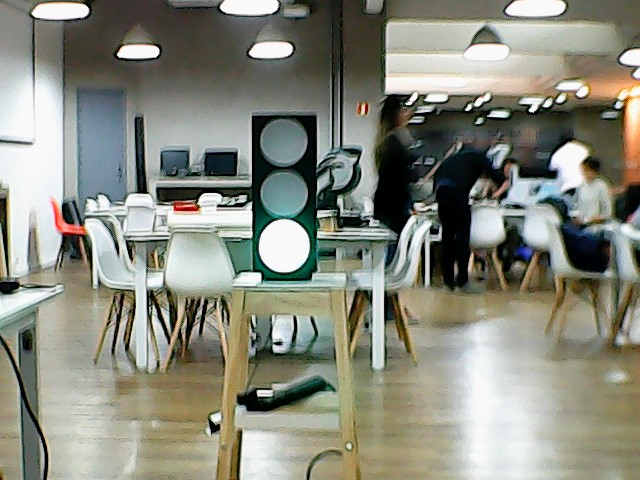verde: (244, 108, 326, 277)
